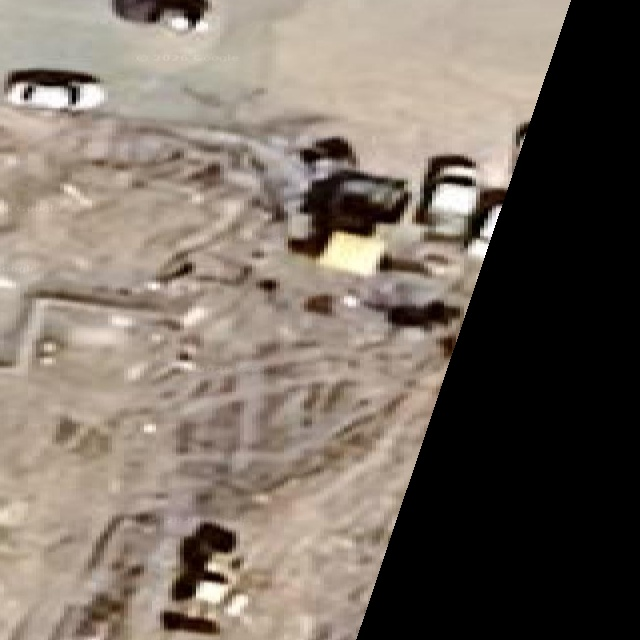car: (5, 68, 104, 110)
